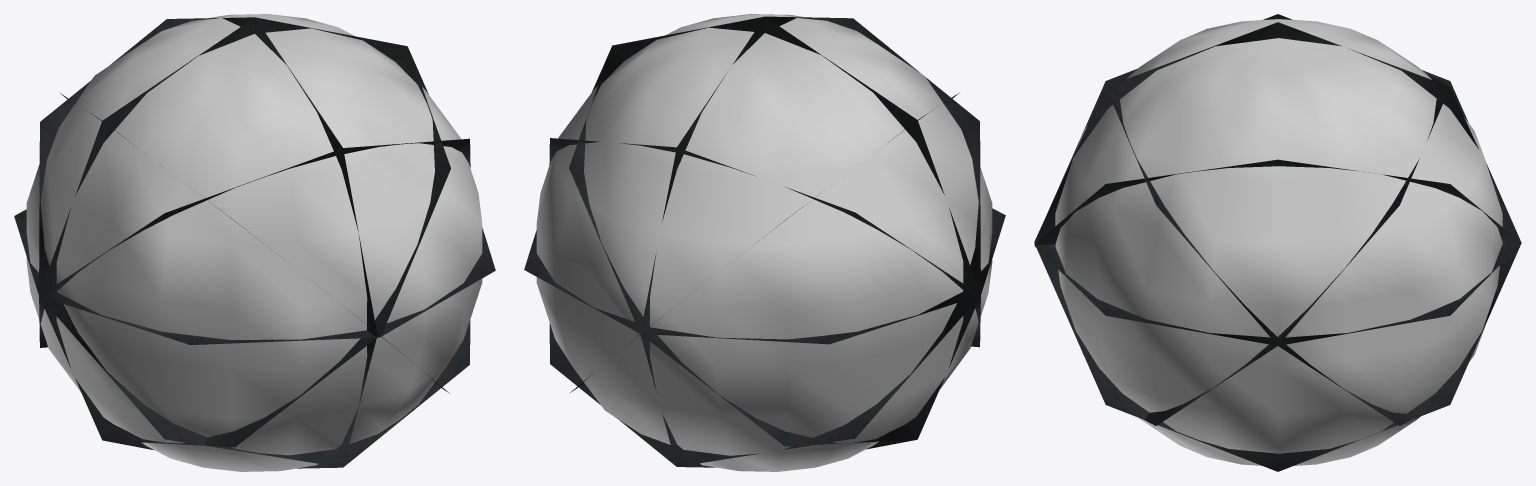
File: af_electra_moonlight.fbx
3 views of the same model, side by side, from view 1: azimuth 30°, elevation 25°; view 2: azimuth 150°, elevation 25°; view 3: azimuth 270°, elevation 25° (orthographic). The views are drawn at different scales.
Visible parts, largest first — view 1: 2, 0; view 2: 2, 0; view 3: 2, 0.
Part boxes in pixels (x1,y1,x2,y2): 2: [26, 14, 482, 471]; 0: [14, 17, 495, 468]; 2: [536, 14, 992, 471]; 0: [524, 16, 1005, 467]; 2: [1055, 19, 1502, 465]; 0: [1034, 14, 1521, 471].
Bounding box in the file's own units: 0.321 × 0.321 × 0.321.
